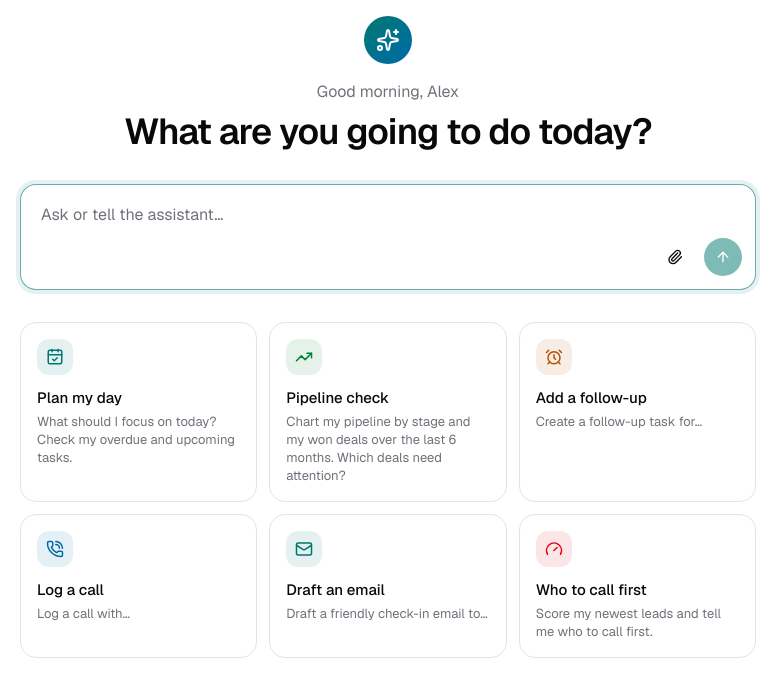
Test case: AssistantHome › fills the box for ideas that need a name
The image size is (777, 675).
What coordinates should you click on to do the following:
click the button "Log a call Log a call with…"
I would click on:
 (139, 586)
Its box is [20,514,257,658].
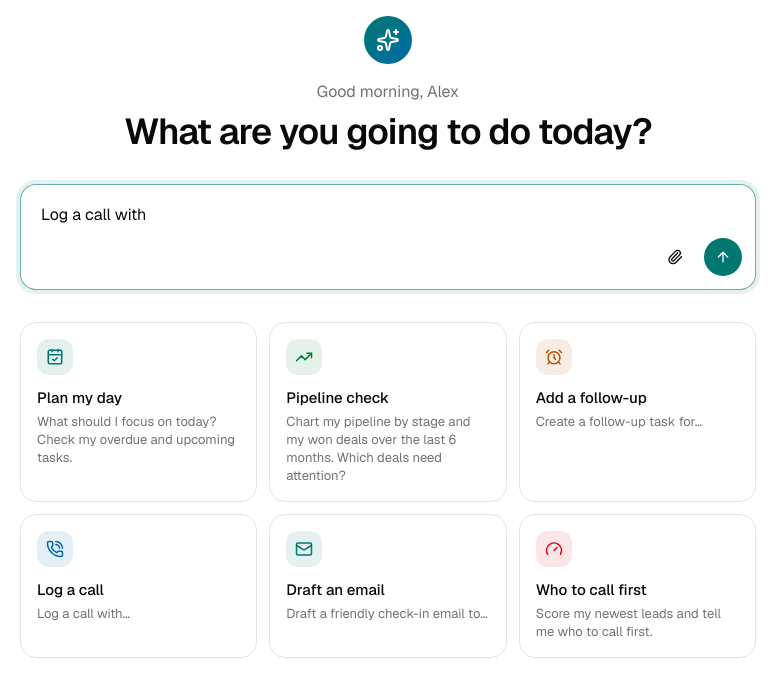
Expected: the text box named "Message the assistant" holds "Log a call with ", [33,197,651,277]
